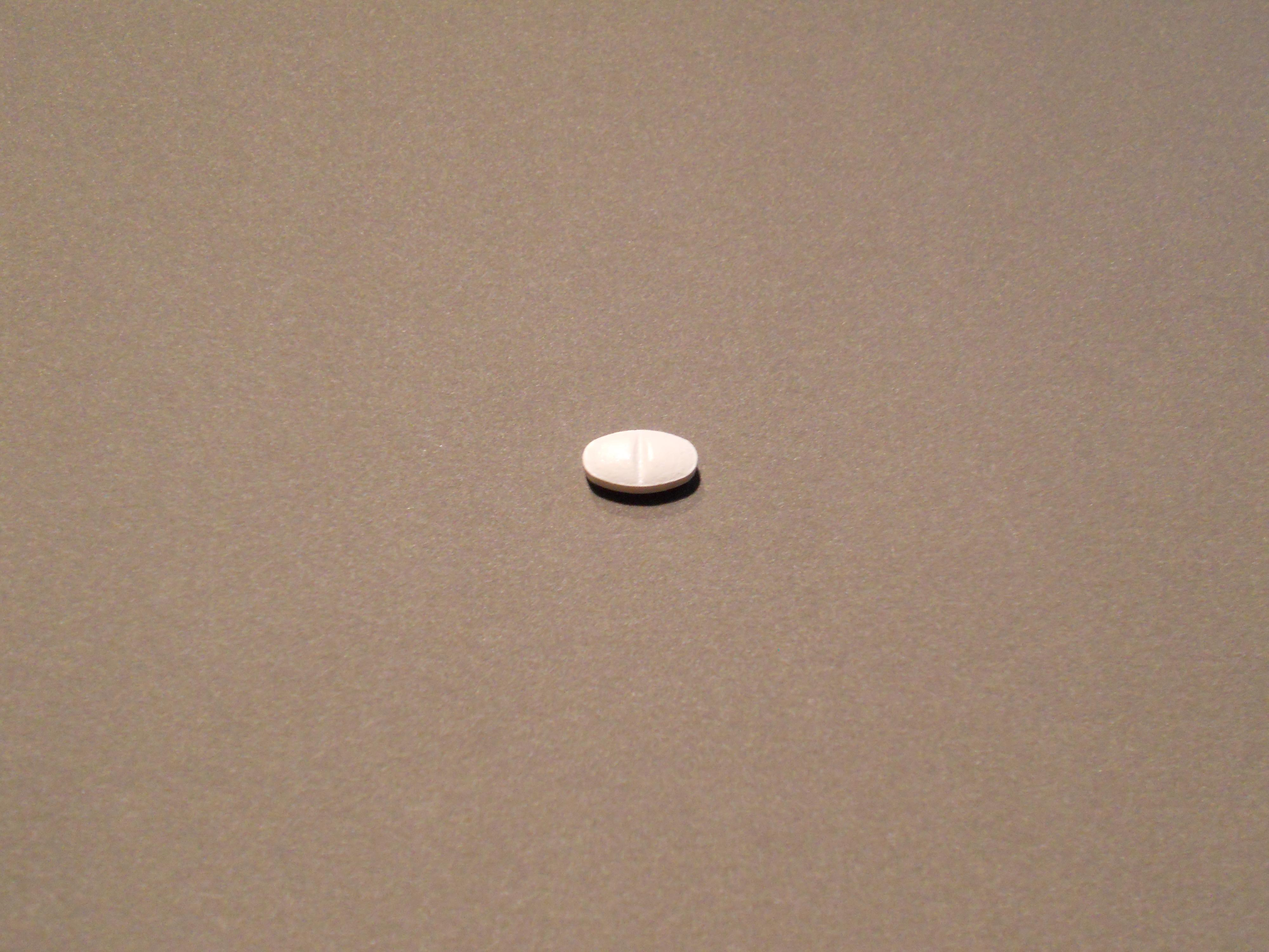Pill: (577, 422, 703, 500)
